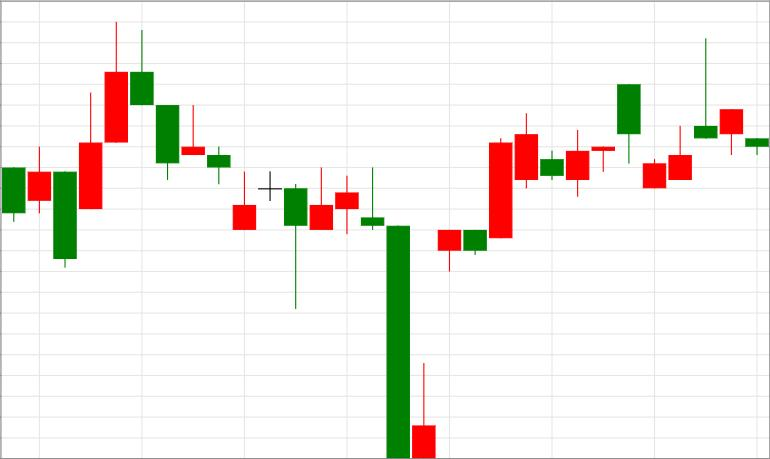inverse_hammer_rise: (284, 167, 436, 459)
